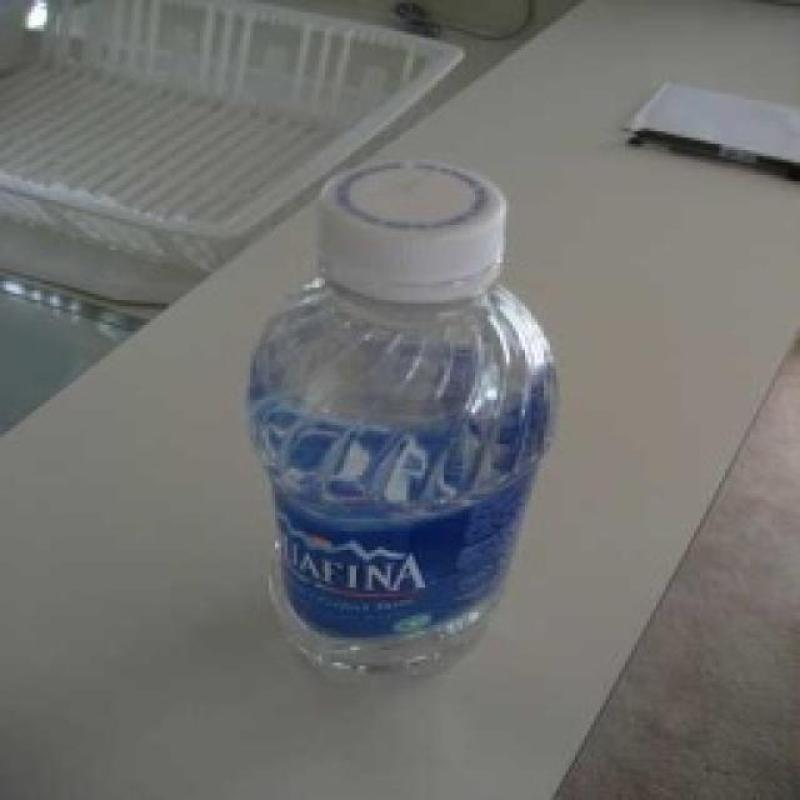botella: (241, 160, 560, 680)
